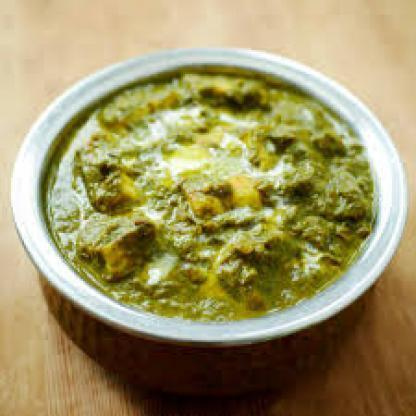palak_paneer: (45, 73, 376, 323)
